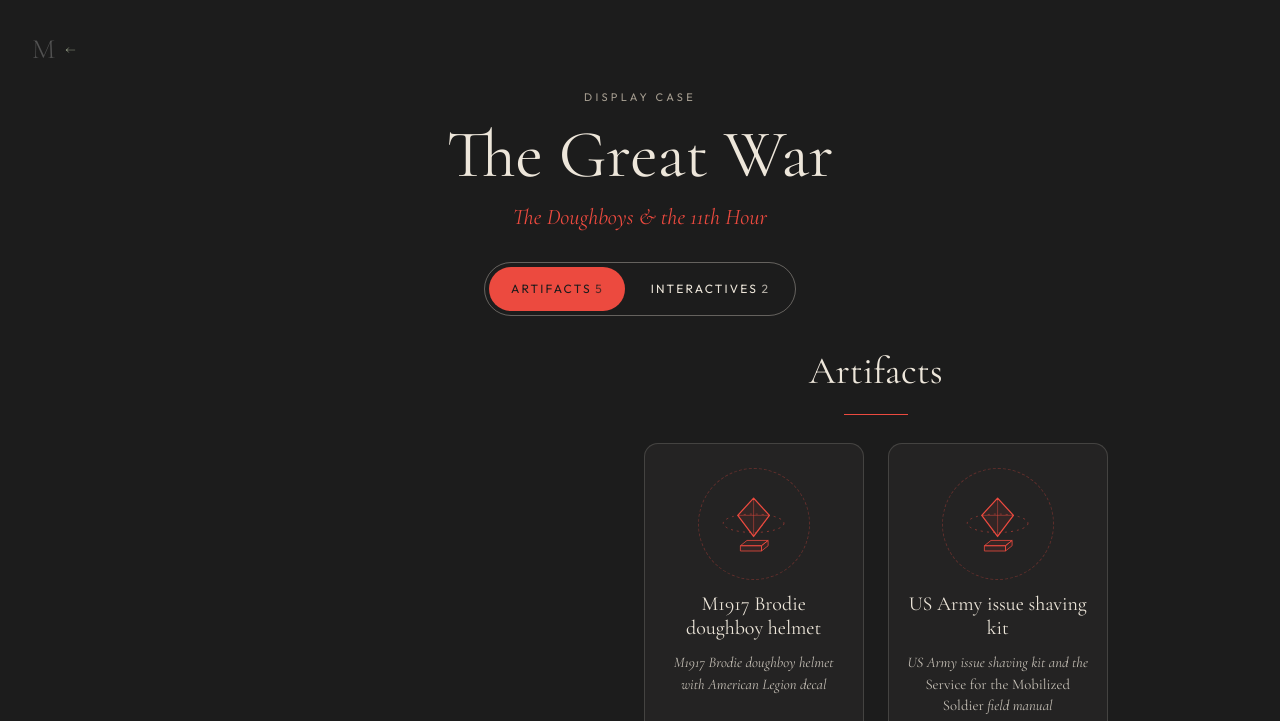
Test case: great-war display case › lists its interactive rooms under the "Interactives" tab on the case page, and not on the landing page
What coordinates should you click on to do the following:
click the tab "Interactives 2"
I would click on:
 (710, 289)
Its box is top-left (629, 267), bottom-right (791, 311).
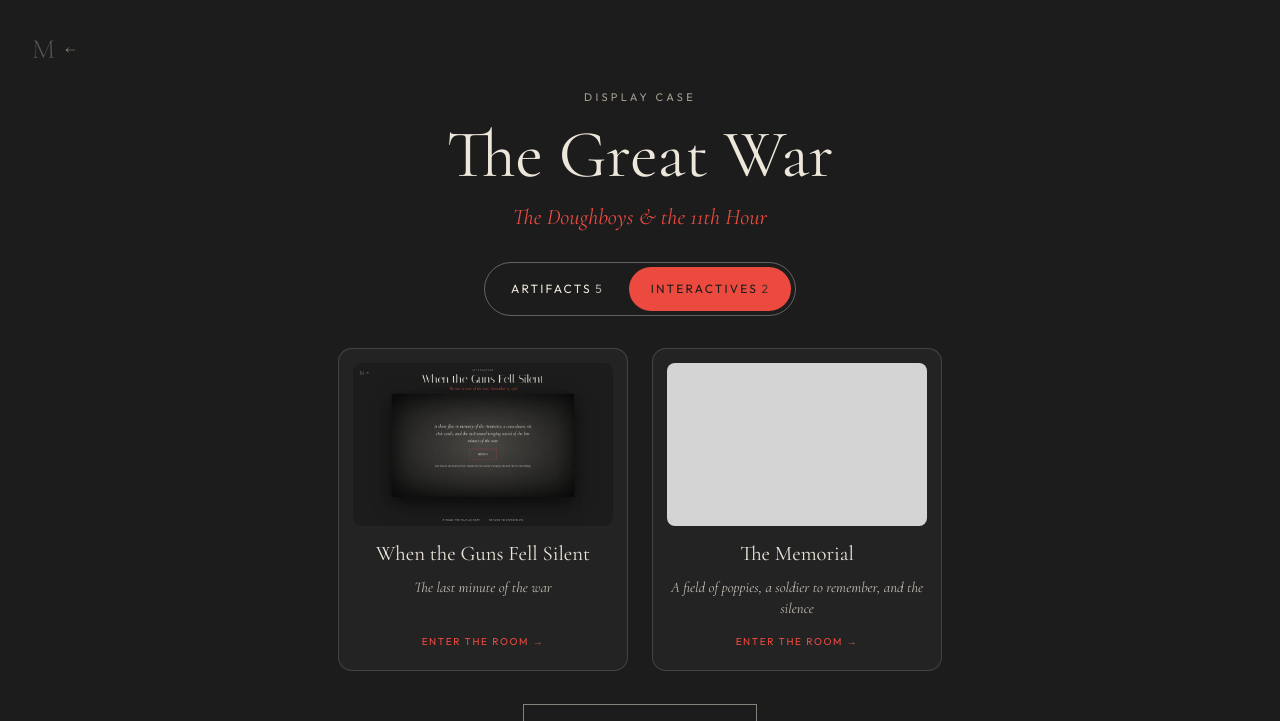
Expected: no links "View artifact" are shown
